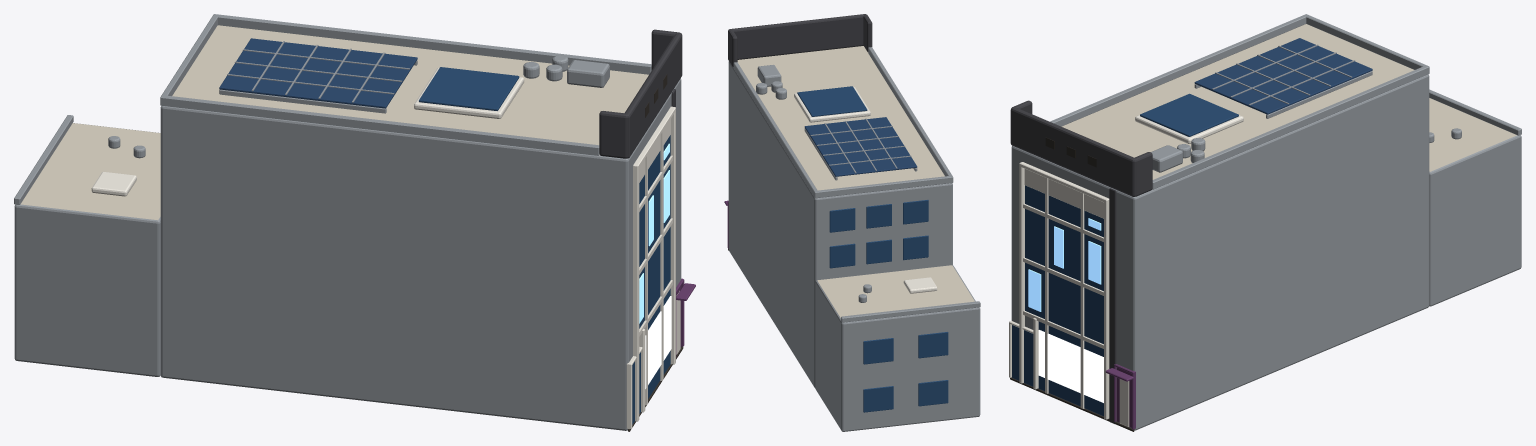
Rendered from 46-south-park.glb.
3 renders of one model, left to right at view 1: azimuth 30°, elevation 25°; view 2: azimuth 150°, elevation 25°; view 3: azimuth 270°, elevation 25°, orthographic. The views are drawn at different scales.
Visible parts, largest first — view 1: body_main, body_rear, pv_panels, parapet_sw, parapet_ne, skylight_glass, front_screen, glass_upper, frame_sw, gf_glow, frame_ne, screen_return_sw (+8 smaller); view 2: body_main, body_rear, pv_panels, front_screen, skylight_glass, parapet_rear, parapet_ne, parapet_sw, rear_upstand, rear_win_00, rear_win_10, rear_win_11 (+12 smaller); view 3: body_main, body_rear, glass_upper, pv_panels, front_screen, parapet_ne, gf_glow, parapet_sw, skylight_glass, front_pier, glass_ground, frame_ne (+15 smaller).
Part boxes in pixels (x1,y1,x2,y2): body_main: (160, 25, 681, 430); body_rear: (14, 123, 160, 376); pv_panels: (219, 38, 417, 108); parapet_sw: (160, 95, 599, 155); parapet_ne: (213, 14, 651, 74); skylight_glass: (419, 67, 519, 110); front_screen: (624, 32, 682, 158); glass_upper: (639, 135, 670, 328); frame_sw: (633, 166, 639, 421); gf_glow: (645, 296, 671, 388); frame_ne: (670, 107, 675, 364); screen_return_sw: (599, 111, 627, 158); body_main: (728, 46, 952, 387); body_rear: (815, 265, 980, 431); pv_panels: (804, 117, 917, 176); front_screen: (729, 14, 865, 59); skylight_glass: (797, 86, 867, 116); parapet_rear: (814, 175, 953, 197); parapet_ne: (733, 62, 817, 198); parapet_sw: (868, 47, 952, 182); rear_upstand: (841, 301, 980, 322); rear_win_00: (918, 380, 948, 406); rear_win_10: (863, 386, 893, 412); rear_win_11: (863, 338, 893, 364); body_main: (1011, 24, 1429, 430); body_rear: (1429, 98, 1521, 306); glass_upper: (1025, 185, 1103, 344); pv_panels: (1194, 38, 1372, 114); front_screen: (1010, 107, 1134, 196); parapet_ne: (1152, 66, 1429, 189); gf_glow: (1038, 330, 1103, 402); parapet_sw: (1050, 14, 1307, 126); skylight_glass: (1140, 93, 1238, 136); front_pier: (1109, 188, 1116, 424); glass_ground: (1038, 321, 1103, 416); frame_ne: (1104, 199, 1109, 419).
Bounding box in the file's own units: 27.93 × 16.15 × 27.62.
